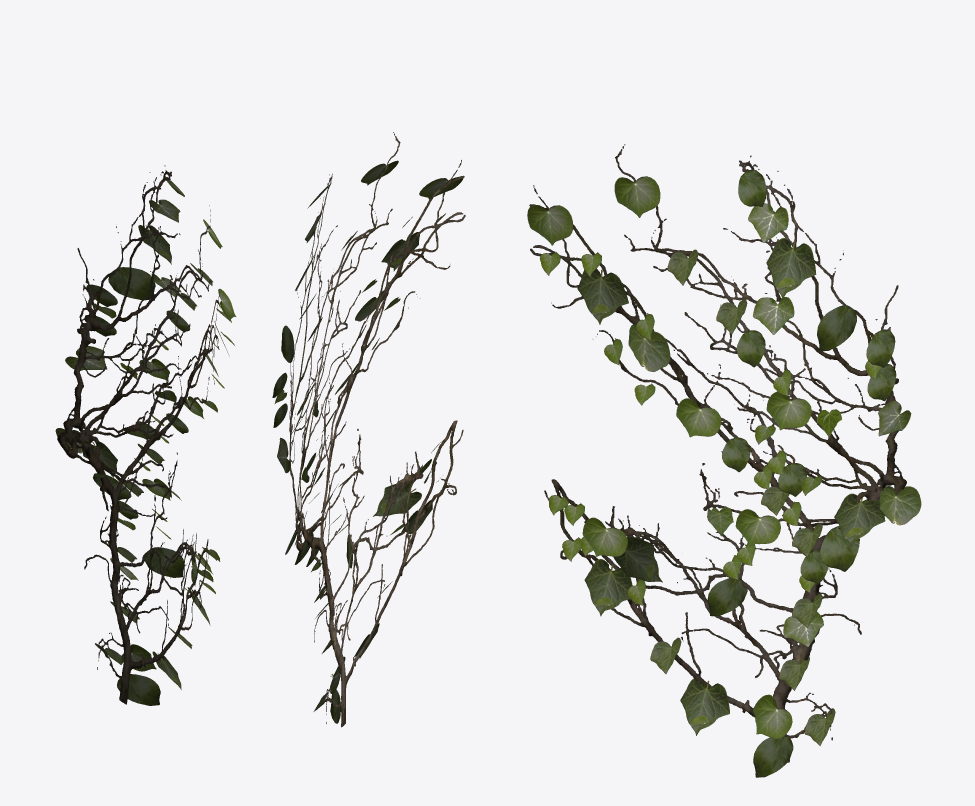
The model's file is ivy_02.DAE.
The picture shows the model from 3 angles, left to right: view 1: azimuth 30°, elevation 25°; view 2: azimuth 150°, elevation 25°; view 3: azimuth 270°, elevation 25°; orthographic projection. The views are drawn at different scales.
Parts seen in each view (by area): view 1: foliage_Ivy02, foliage_Ivy008; view 2: foliage_Ivy02, foliage_Ivy008; view 3: foliage_Ivy02, foliage_Ivy008.
Part boxes in pixels (<box>): foliage_Ivy02: <box>55,165,235,705</box>; foliage_Ivy008: <box>56,165,234,705</box>; foliage_Ivy02: <box>272,132,465,727</box>; foliage_Ivy008: <box>272,136,465,725</box>; foliage_Ivy02: <box>527,144,921,777</box>; foliage_Ivy008: <box>528,170,921,777</box>.
Bounding box in the file's own units: 0.4071 × 3.04 × 1.65.
